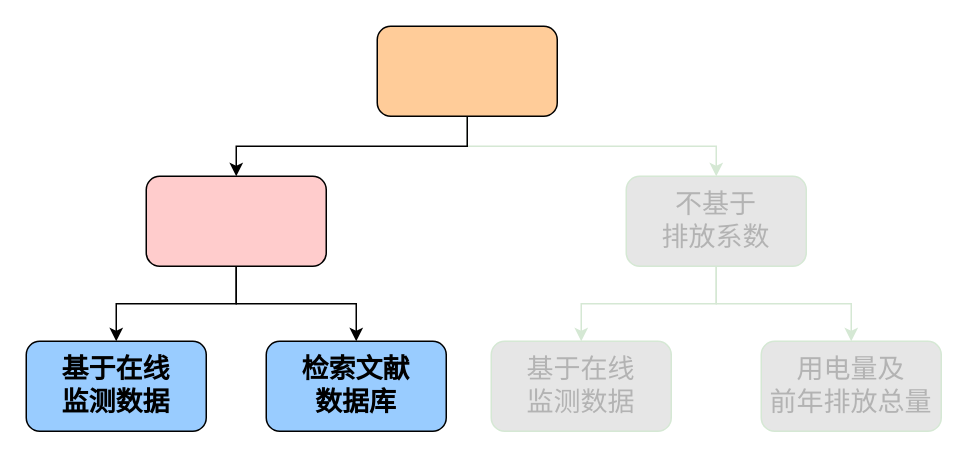
This 968x458 diagram has some shape labels left out. Here are the shapes that lost their labels. From the top down, the centre of each, then its label:
At [466,70]: "固定污染源 排放量计算".
At [235,220]: "基于 排放系数".
